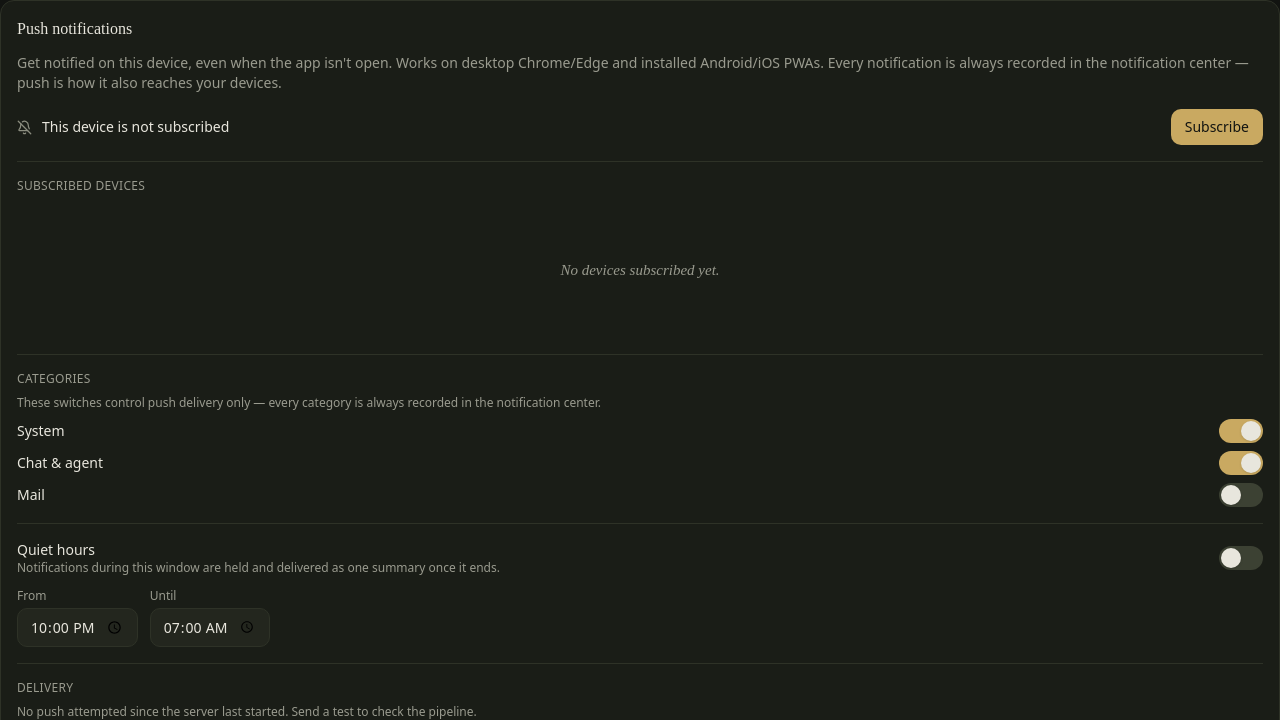
Test case: PushNotificationsCard (#670, ADR-0102) › shows an error when subscribing is denied rather than crashing
This screenshot has width=1280, height=720.
Click the button "Subscribe" at x=1217, y=127, box x1=1171 y1=109 x2=1263 y2=145
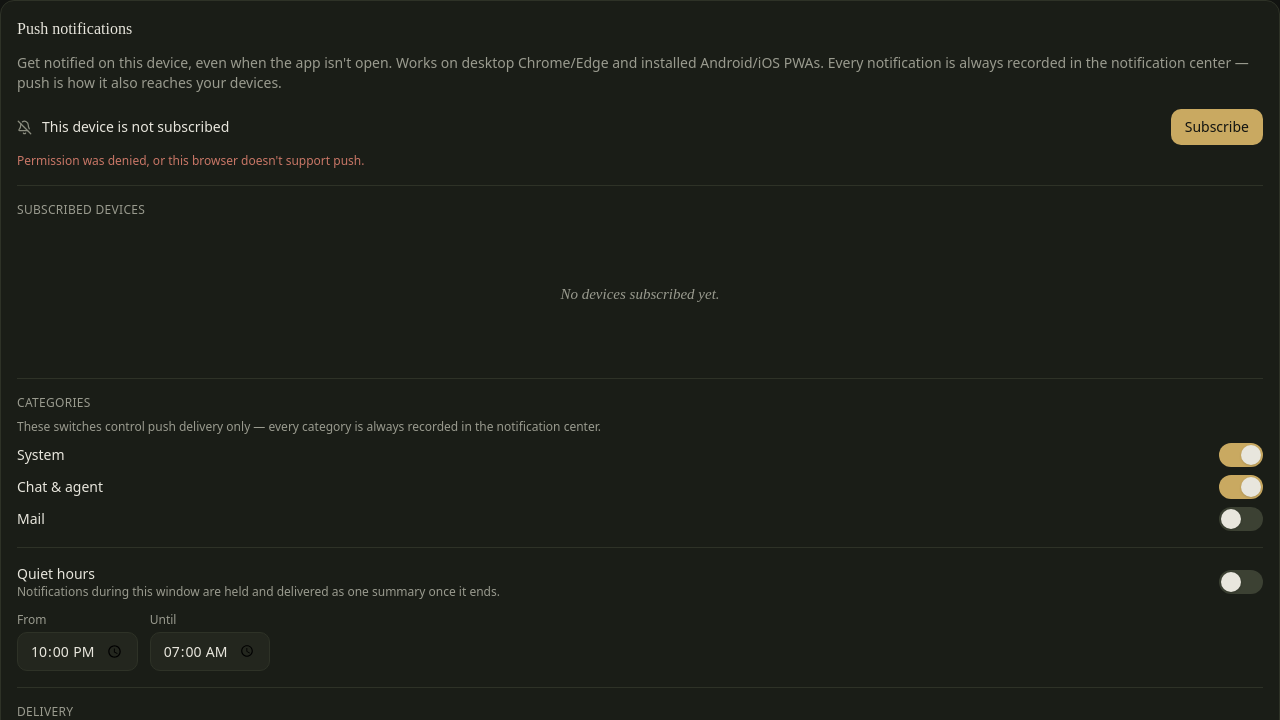
Expected: the text "Permission was denied, or this browser doesn't support push." is shown, x1=17 y1=152 x2=364 y2=169
